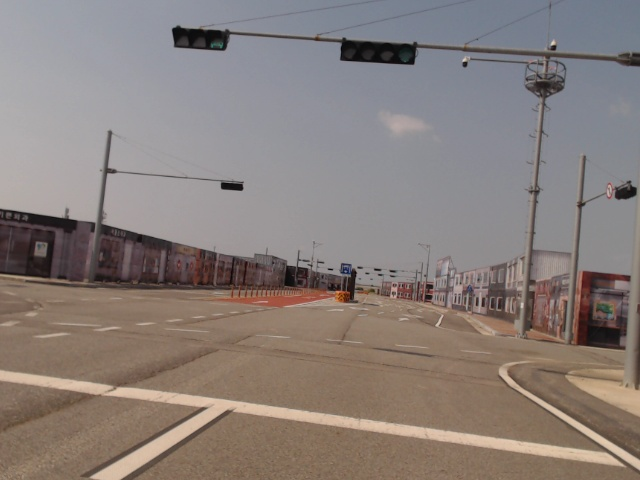straight_green_4: (340, 40, 417, 66)
